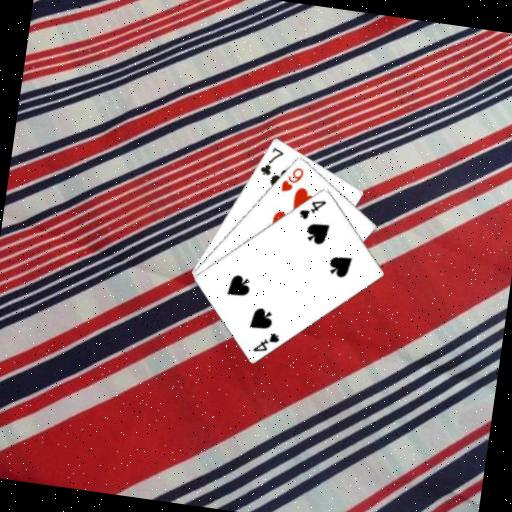4S: (249, 327, 282, 356), (296, 194, 328, 223)
7C: (257, 142, 286, 179)
9H: (277, 162, 306, 196)
